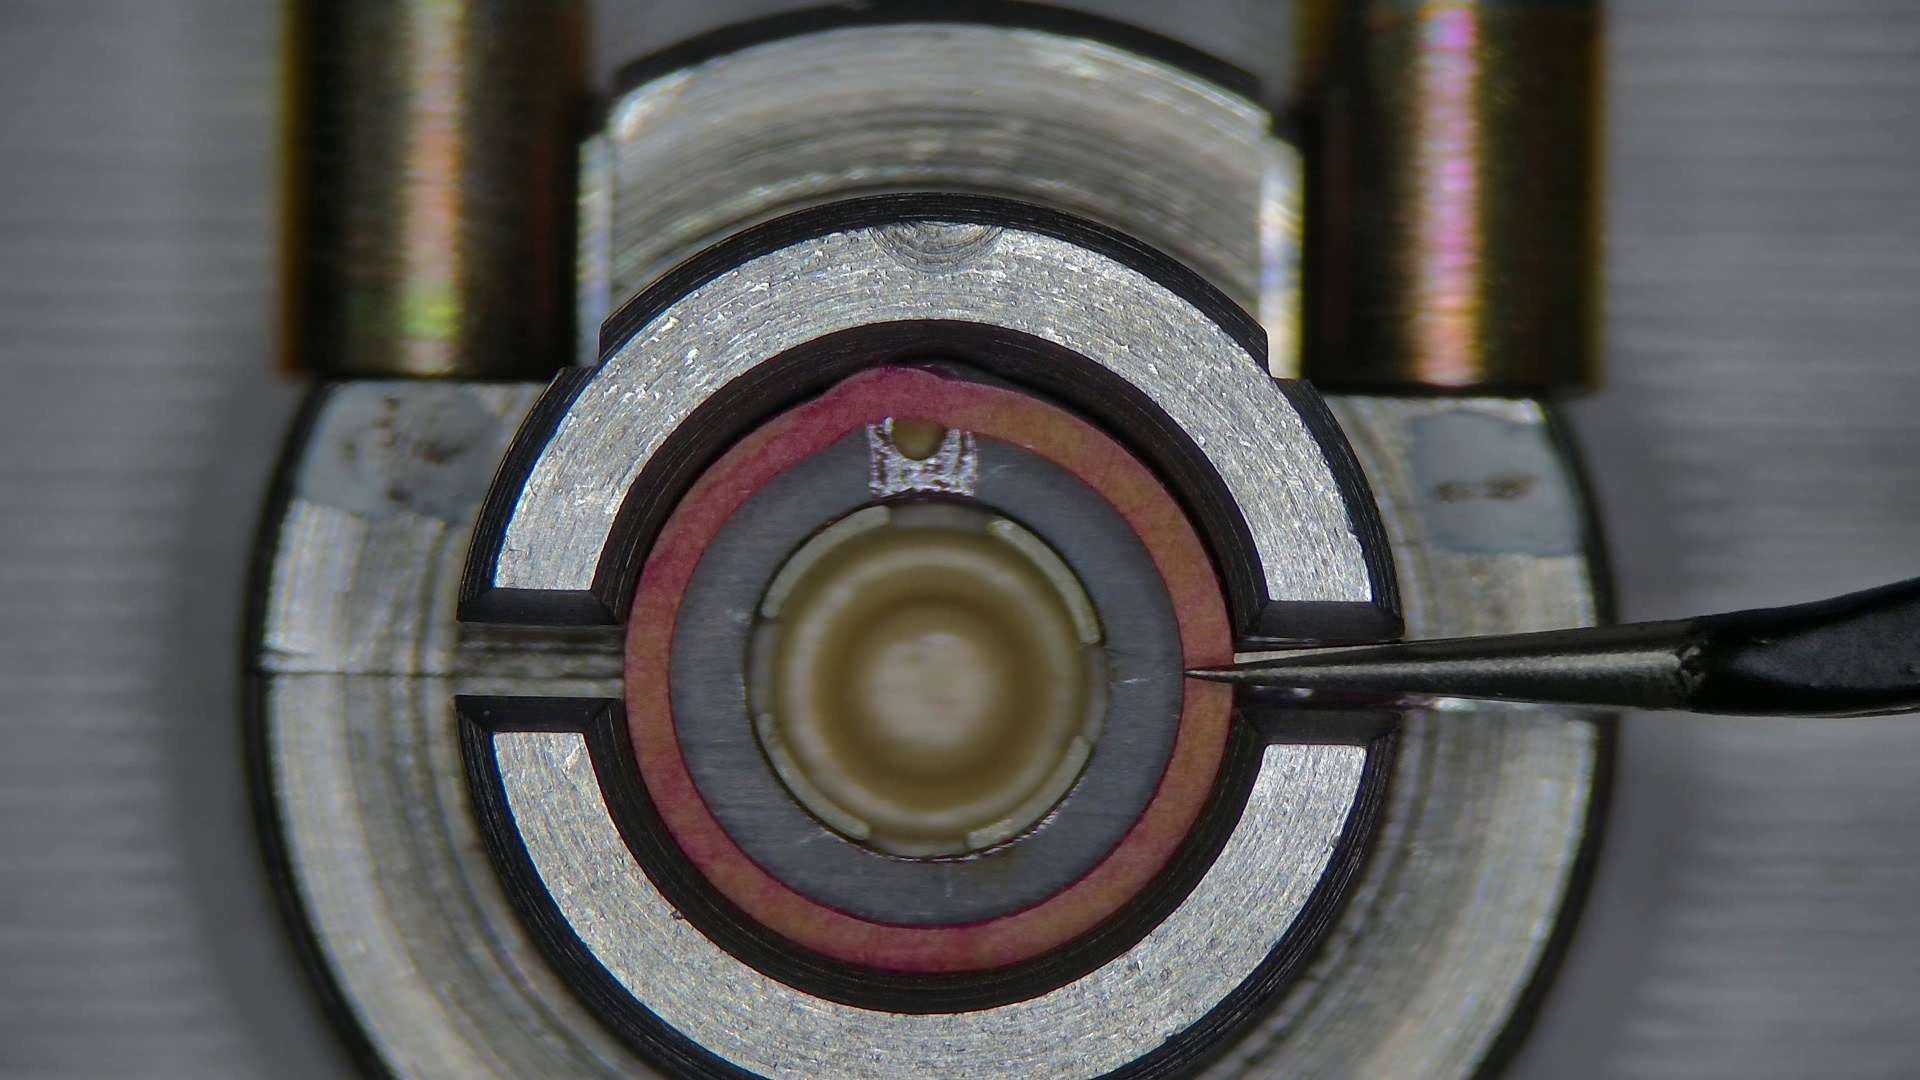GreyOring: (625, 368, 1236, 973)
YellowOring: (673, 426, 1180, 922)
